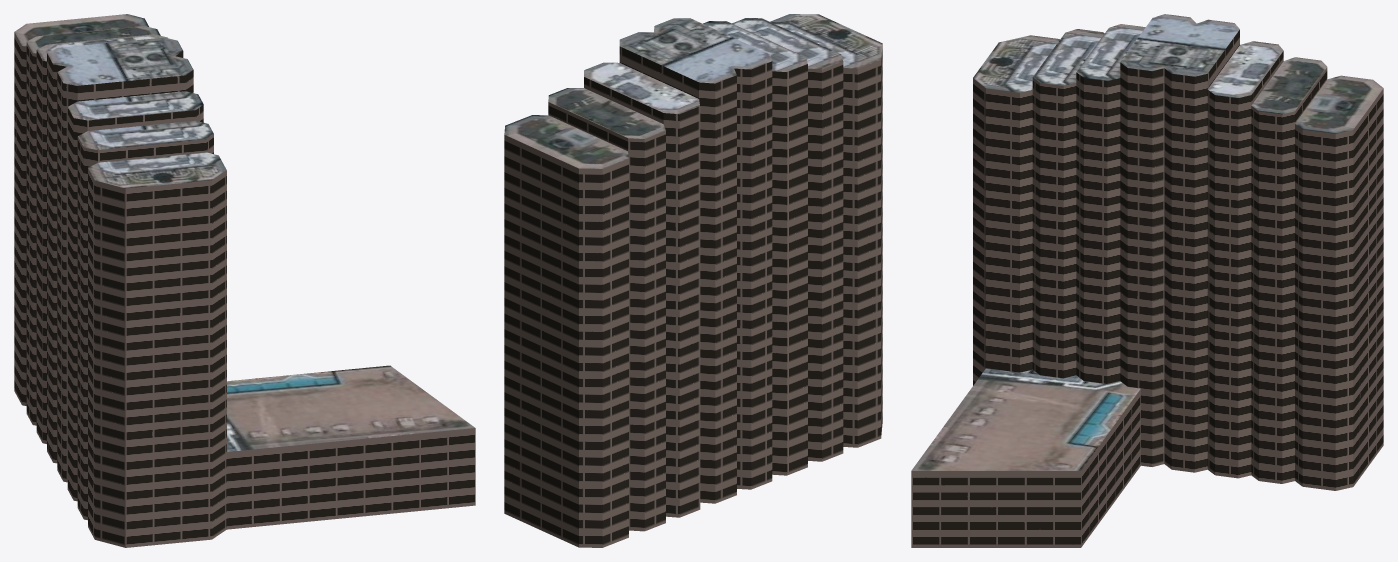
3 views of the same model, side by side, from view 1: azimuth 30°, elevation 25°; view 2: azimuth 150°, elevation 25°; view 3: azimuth 270°, elevation 25° (orthographic). The views are drawn at different scales.
Parts seen in each view (by area): view 1: block (×9); view 2: block (×8); view 3: block (×9).
Boxes of the visible parts, box(x1,y1,x2,y2) form: block (×9): box(14, 14, 475, 547); block (×8): box(504, 14, 882, 547); block (×9): box(911, 14, 1383, 547).
Bounding box in the file's own units: 2528 × 3246 × 3002.
Materials: 3 (2 with a texture image).
